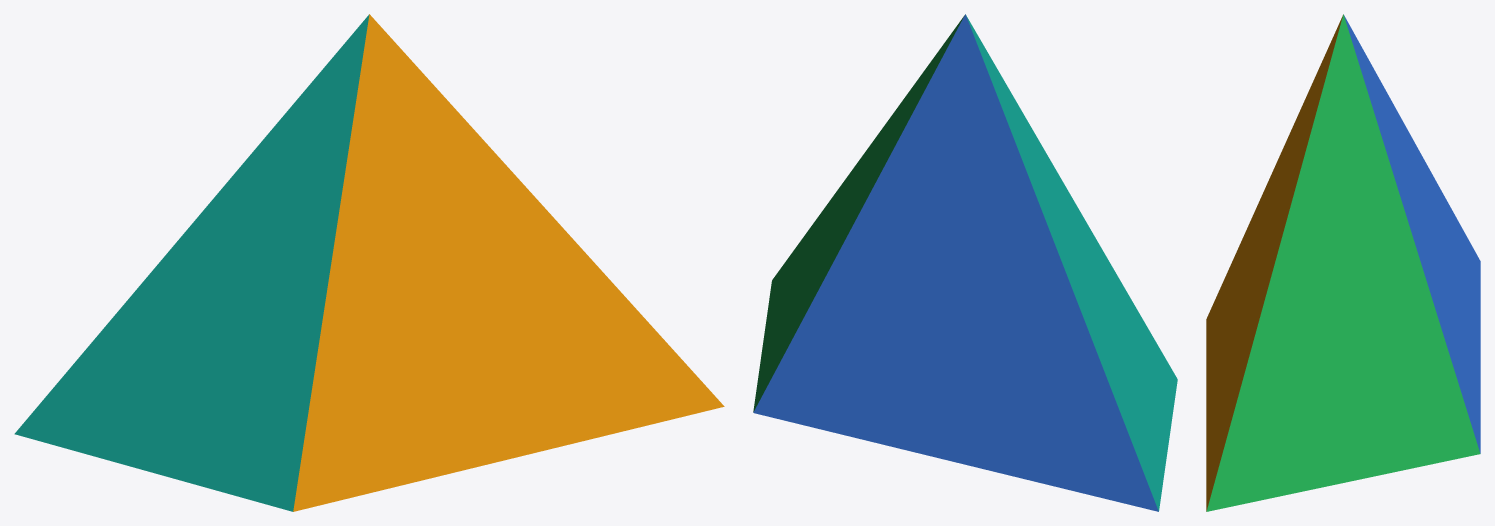
File: limas-jajargenjang.glb
3 renders of one model, left to right at view 1: azimuth 30°, elevation 25°; view 2: azimuth 150°, elevation 25°; view 3: azimuth 270°, elevation 25°, orthographic. The views are drawn at different scales.
Visible parts, largest first — view 1: tegak3, tegak4; view 2: tegak1, tegak4, tegak2; view 3: tegak2, tegak3, tegak1.
Boxes of the visible parts, bbox=[...] form: tegak3: bbox=[293, 14, 724, 511]; tegak4: bbox=[14, 14, 369, 511]; tegak1: bbox=[753, 14, 1158, 511]; tegak4: bbox=[966, 15, 1177, 511]; tegak2: bbox=[753, 15, 964, 411]; tegak2: bbox=[1206, 14, 1480, 511]; tegak3: bbox=[1206, 15, 1342, 511]; tegak1: bbox=[1344, 15, 1480, 453].
Size of the model in its own units: 2.6 by 1.8 by 1.2.
